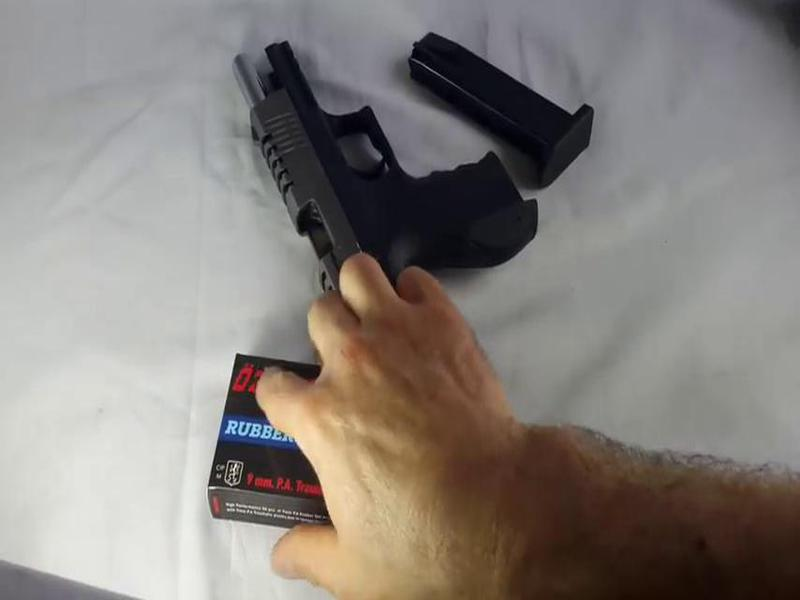Pistola: (202, 28, 559, 325)
